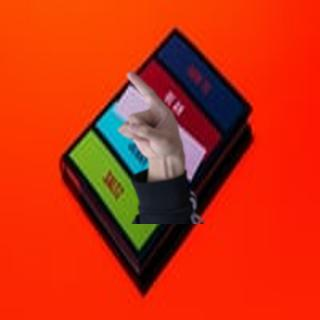IRRITATED: (117, 71, 184, 160)
